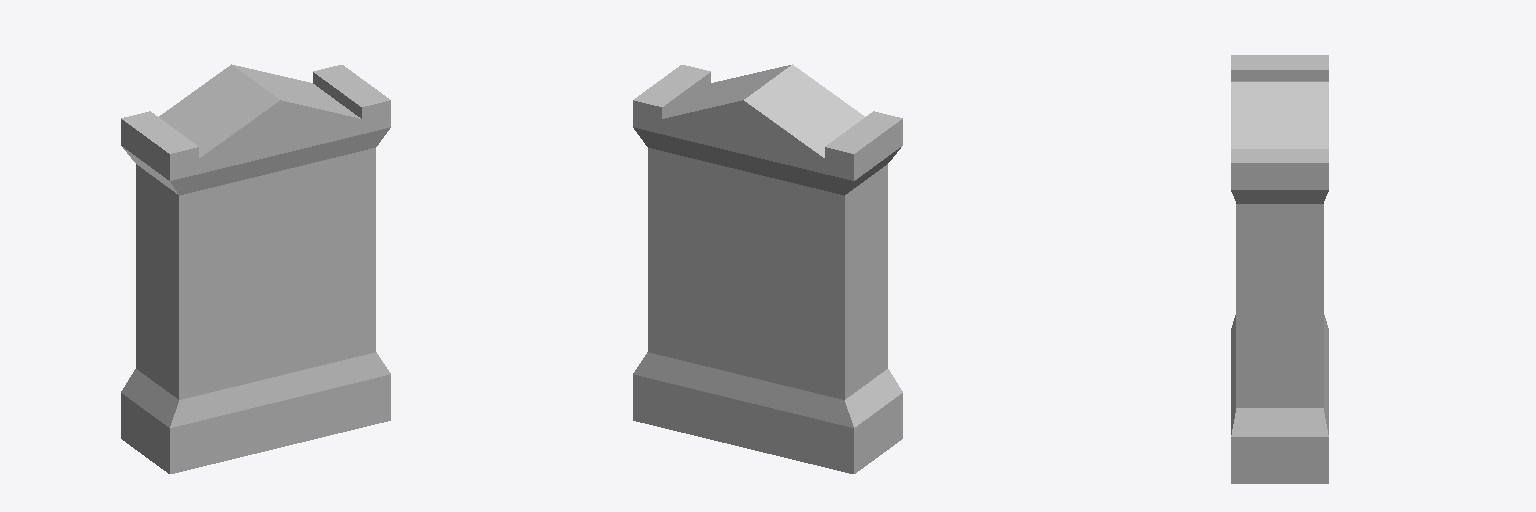
File: gravestoneDecorative.obj
3 renders of one model, left to right at view 1: azimuth 30°, elevation 25°; view 2: azimuth 150°, elevation 25°; view 3: azimuth 270°, elevation 25°, orthographic.
Parts seen in each view (by area): view 1: gravestoneDecorative; view 2: gravestoneDecorative; view 3: gravestoneDecorative.
Boxes of the visible parts, x1=… form: gravestoneDecorative: x1=121, y1=64, x2=390, y2=473; gravestoneDecorative: x1=633, y1=64, x2=902, y2=473; gravestoneDecorative: x1=1231, y1=55, x2=1328, y2=483.
Bounding box in the file's own units: 0.39 × 0.585 × 0.1495.